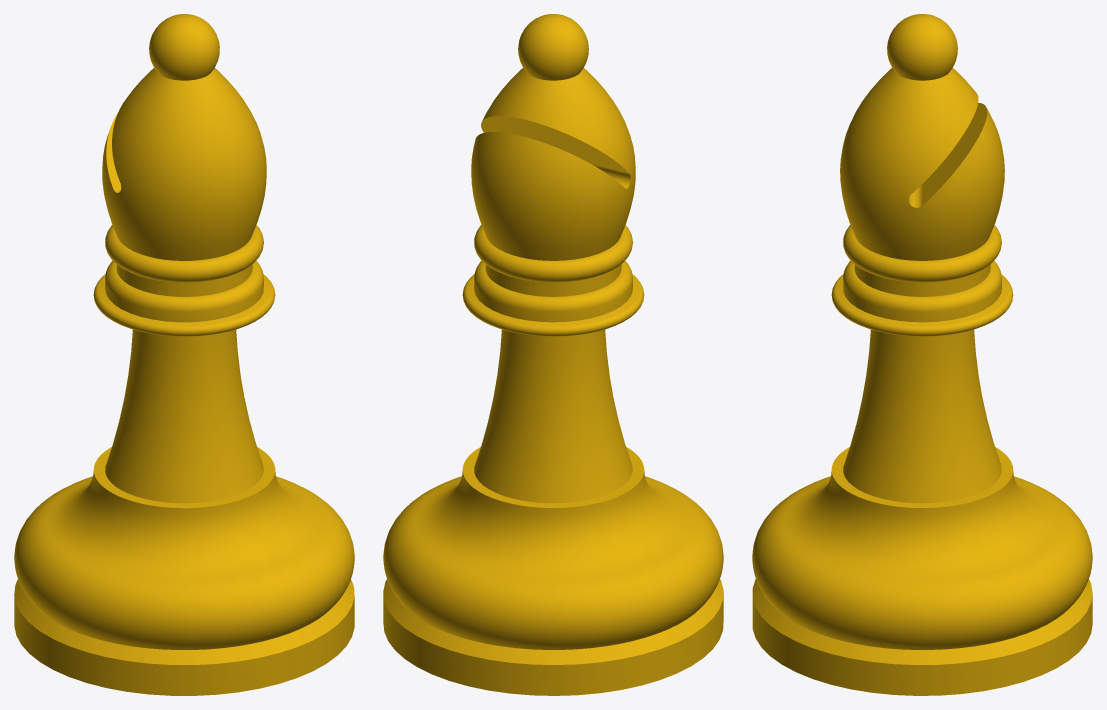
Rendered from Gold-Bishop.glb.
3 views of the same model, side by side, from view 1: azimuth 30°, elevation 25°; view 2: azimuth 150°, elevation 25°; view 3: azimuth 270°, elevation 25° (orthographic).
Parts seen in each view (by area): view 1: Mesh_0; view 2: Mesh_0; view 3: Mesh_0.
Boxes of the visible parts, x1=… form: Mesh_0: x1=14, y1=14, x2=354, y2=695; Mesh_0: x1=383, y1=14, x2=723, y2=695; Mesh_0: x1=752, y1=14, x2=1092, y2=695.
Bounding box in the file's own units: 30.49 × 60 × 30.5.
Materials: 1 (1 with a texture image).
